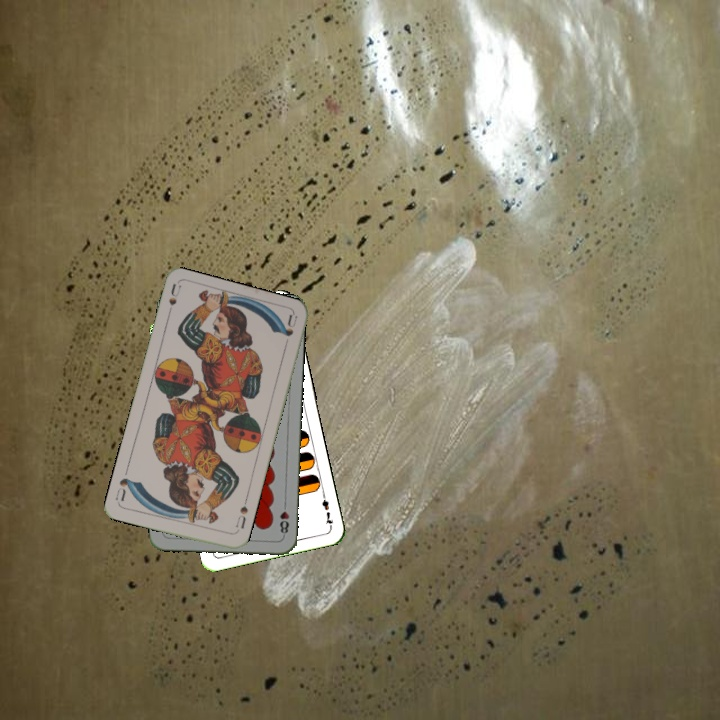E7: (318, 489, 335, 529)
H8: (276, 498, 291, 539)
SU: (163, 281, 183, 322), (230, 502, 250, 536)
